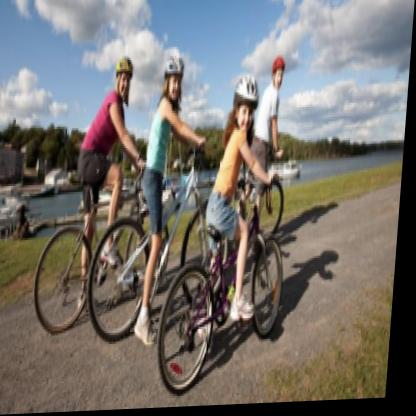With Helmet: (233, 72, 266, 137), (160, 50, 190, 106), (114, 50, 139, 104), (269, 53, 292, 96)
